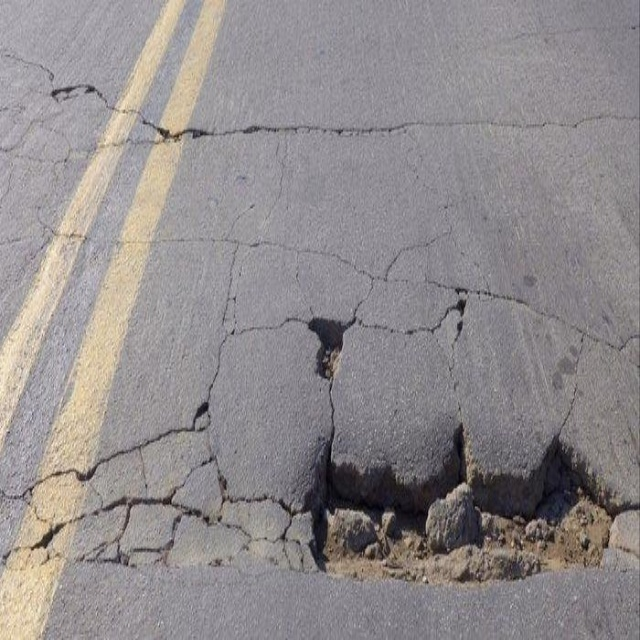pothole: (273, 351, 619, 619)
